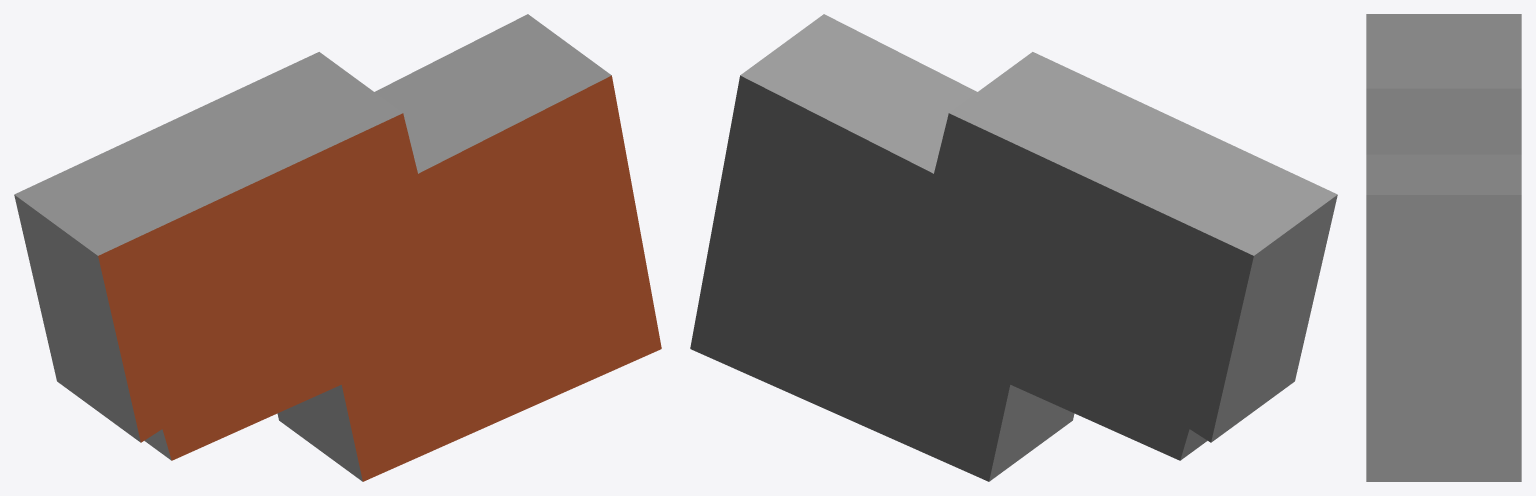
Rendered from construction_5356_assumed_A_Casa_h6m.obj.
The picture shows the model from 3 angles, left to right: view 1: azimuth 30°, elevation 25°; view 2: azimuth 150°, elevation 25°; view 3: azimuth 270°, elevation 25°; orthographic projection. The views are drawn at different scales.
Parts seen in each view (by area): view 1: construction_5356_assumed_A_Casa; view 2: construction_5356_assumed_A_Casa; view 3: construction_5356_assumed_A_Casa.
Boxes of the visible parts, box(x1,y1,x2,y2) form: construction_5356_assumed_A_Casa: box(14, 14, 661, 481); construction_5356_assumed_A_Casa: box(690, 14, 1337, 481); construction_5356_assumed_A_Casa: box(1366, 14, 1521, 481).
Size of the model in its own units: 23.27 by 14.16 by 6.
